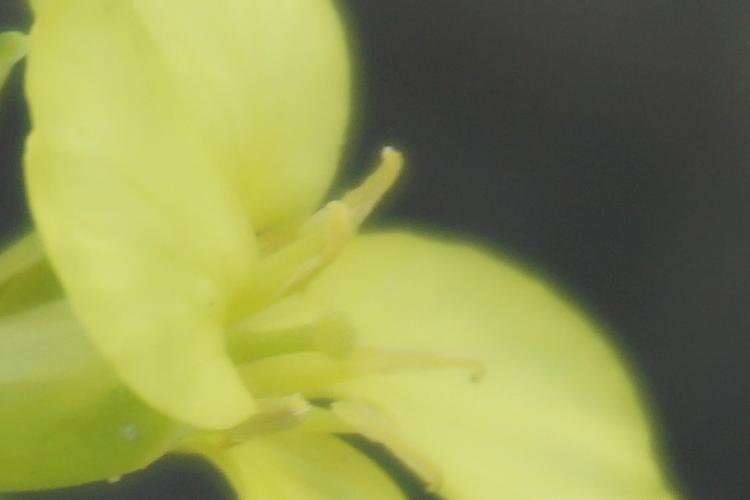yellow: (18, 1, 663, 500)
